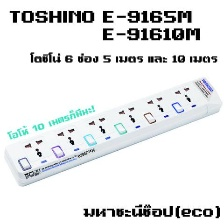three_eye_plug: (2, 74, 223, 187)
